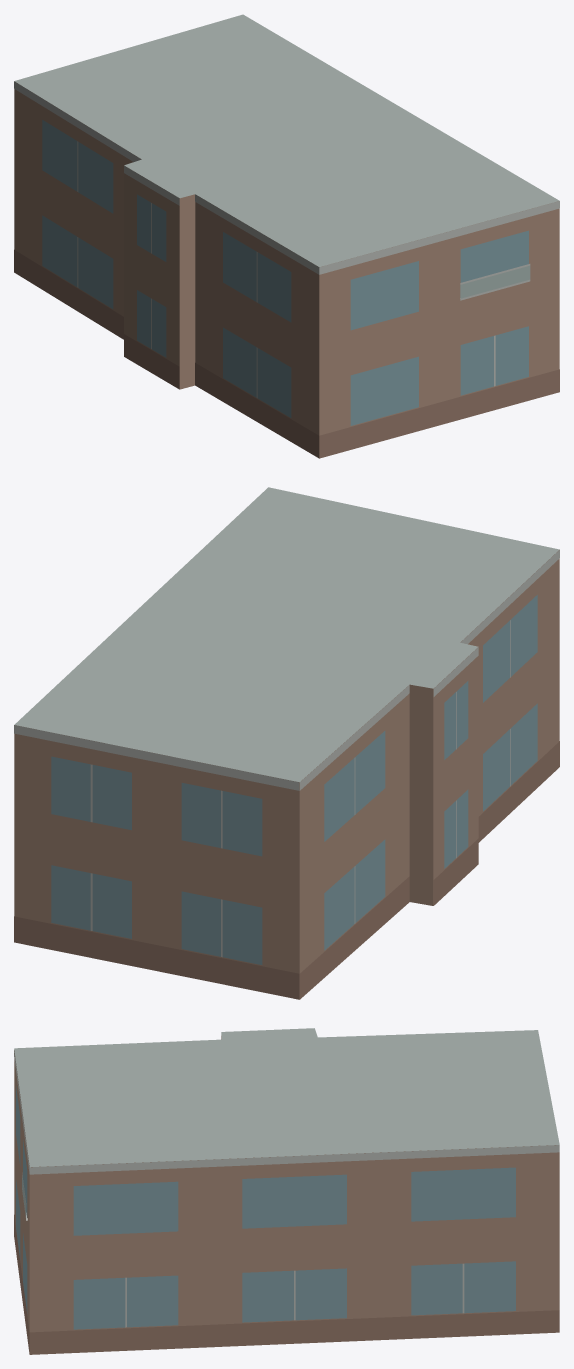
File: survey-upis-32625746.glb
The picture shows the model from 3 angles, top to bottom: view 1: azimuth 30°, elevation 25°; view 2: azimuth 150°, elevation 25°; view 3: azimuth 270°, elevation 25°; orthographic projection. The views are drawn at different scales.
Parts seen in each view (by area): view 1: survey-upis-32625746.tmp; view 2: survey-upis-32625746.tmp; view 3: survey-upis-32625746.tmp.
Part boxes in pixels (x1,y1,x2,y2): survey-upis-32625746.tmp: (14, 14, 559, 458); survey-upis-32625746.tmp: (14, 487, 559, 999); survey-upis-32625746.tmp: (14, 1028, 559, 1354).
Size of the model in its own units: 9.71 by 6.1 by 16.09.
